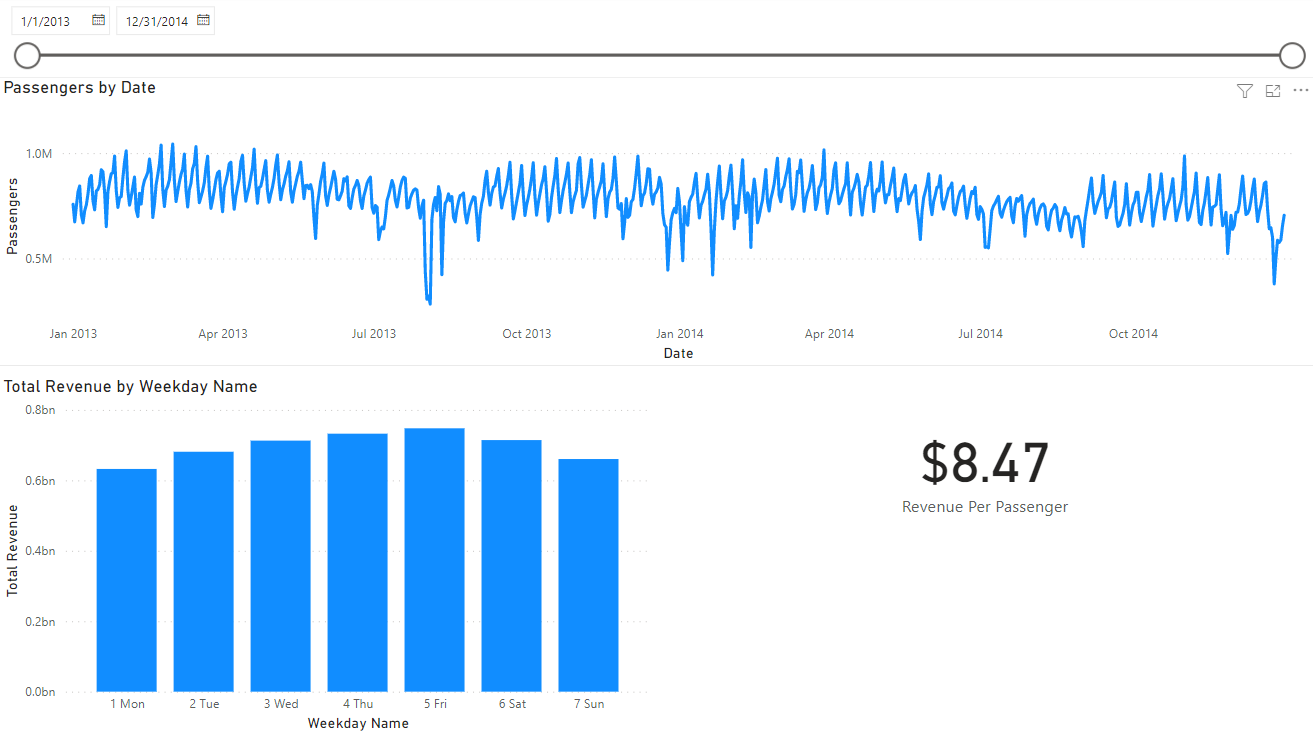

What the dashboard file says about the page in this screenshot:
{"tool":"powerbi","page":{"name":"Page 1","canvas":[1280,720],"ordinal":0},"visuals":[{"type":"lineChart","fields":{"Y":["Sum(Taxi.Passengers)"],"Category":["Taxi.Date"]},"box":[0,78.8,1280,281.1],"z":0},{"type":"clusteredColumnChart","fields":{"Category":["Weekday.Weekday Name"],"Y":["Taxi.Total Revenue"]},"box":[0,369.6,640,350.2],"z":1000},{"type":"card","fields":{"Values":["Taxi.Revenue Per Passenger"]},"box":[640,369.6,640,175.1],"z":2000},{"type":"slicer","fields":{"Values":["Taxi.Date"]},"box":[0,0,1280,78.8],"z":3000}]}

Visuals, with their boxes in screenshot pixels (x1, y1, x2, y2), scaled from the page's 1280x720 canvas onto the 1313x734 screenshot:
lineChart - Sum(Taxi.Passengers) x Taxi.Date: {"left": 0, "top": 80, "right": 1312, "bottom": 367}
clusteredColumnChart - Weekday.Weekday Name x Taxi.Total Revenue: {"left": 0, "top": 377, "right": 656, "bottom": 733}
card - Taxi.Revenue Per Passenger: {"left": 656, "top": 377, "right": 1312, "bottom": 555}
slicer - Taxi.Date: {"left": 0, "top": 0, "right": 1312, "bottom": 80}
